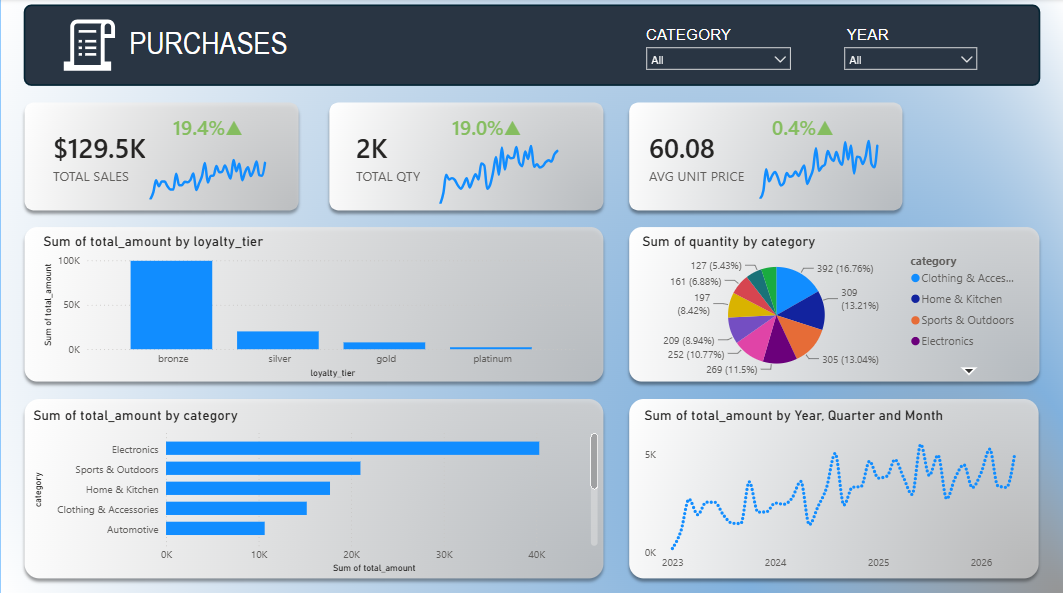

The page's visual inventory and layout, read from the dashboard file:
{"tool":"powerbi","page":{"name":"PURCHASES","canvas":[1280,720],"ordinal":0},"visuals":[{"type":"barChart","fields":{"Y":["Sum(purchases.total_amount)"],"Category":["products.category"]},"box":[34.4,491.4,689.5,205.1],"z":0},{"type":"lineChart","fields":{"Category":["purchases.order_date.Variation.Date Hierarchy.Year","purchases.order_date.Variation.Date Hierarchy.Quarter","purchases.order_date.Variation.Date Hierarchy.Month"],"Y":["Sum(purchases.total_amount)"]},"box":[770.8,491.4,469.3,205.1],"z":1000},{"type":"pieChart","fields":{"Category":["products.category"],"Y":["Sum(purchases.quantity)"]},"box":[768,282.2,472.1,178.9],"z":2000},{"type":"slicer","fields":{"Values":["purchases.order_date.Variation.Date Hierarchy.Year"]},"box":[1006.1,48.2,180.3,49.5],"z":3000},{"type":"columnChart","fields":{"Category":["users.loyalty_tier"],"Y":["Sum(purchases.total_amount)"]},"box":[46.8,282.2,653.8,178.9],"z":4000},{"type":"cardVisual","fields":{"Data":["DAX Measures.TOTAL SALES"]},"box":[34.4,134.9,217.5,110.1],"z":5000},{"type":"cardVisual","fields":{"Data":["DAX Measures.% YOY SLAES"]},"box":[178.9,112.9,170.7,77.1],"z":6000},{"type":"lineChart","fields":{"Category":["purchases.order_date.Variation.Date Hierarchy.Year","purchases.order_date.Variation.Date Hierarchy.Quarter","purchases.order_date.Variation.Date Hierarchy.Month"],"Y":["Sum(purchases.total_amount)"]},"box":[166.5,178.9,167.9,67.4],"z":7000},{"type":"cardVisual","fields":{"Data":["DAX Measures.TOTAL QTY"]},"box":[399.1,128,173.4,123.9],"z":8000},{"type":"lineChart","fields":{"Category":["purchases.order_date.Variation.Date Hierarchy.Year","purchases.order_date.Variation.Date Hierarchy.Quarter","purchases.order_date.Variation.Date Hierarchy.Month"],"Y":["Sum(purchases.quantity)"]},"box":[514.8,162.4,170.7,89.5],"z":9000},{"type":"lineChart","fields":{"Category":["purchases.order_date.Variation.Date Hierarchy.Year","purchases.order_date.Variation.Date Hierarchy.Quarter","purchases.order_date.Variation.Date Hierarchy.Month"],"Y":["Sum(purchases.unit_price)"]},"box":[900.1,156.9,170.7,89.5],"z":12000},{"type":"slicer","fields":{"Values":["products.category"]},"box":[768,48.2,194.1,45.4],"z":13000},{"type":"cardVisual","fields":{"Data":["DAX Measures.% YOY QTY"]},"box":[514.8,112.9,170.7,77.1],"z":14000},{"type":"cardVisual","fields":{"Data":["DAX Measures.AVG UNIT PRICE"]},"box":[752.9,128,173.4,123.9],"z":14001},{"type":"cardVisual","fields":{"Data":["DAX Measures.% YOY UNIT PRICE"]},"box":[900.1,112.9,170.7,77.1],"z":14002}]}

Visuals, with their boxes in screenshot pixels (x1, y1, x2, y2), scaled from the page's 1280x720 canvas onto the 1063x593 screenshot:
barChart - Sum(purchases.total_amount) x products.category: 29,405,601,574
lineChart - purchases.order_date.Variation.Date Hierarchy.Year x purchases.order_date.Variation.Date Hierarchy.Quarter: 640,405,1030,574
pieChart - products.category x Sum(purchases.quantity): 638,232,1030,380
slicer - purchases.order_date.Variation.Date Hierarchy.Year: 836,40,985,80
columnChart - users.loyalty_tier x Sum(purchases.total_amount): 39,232,582,380
cardVisual - DAX Measures.TOTAL SALES: 29,111,209,202
cardVisual - DAX Measures.% YOY SLAES: 149,93,290,156
lineChart - purchases.order_date.Variation.Date Hierarchy.Year x purchases.order_date.Variation.Date Hierarchy.Quarter: 138,147,278,203
cardVisual - DAX Measures.TOTAL QTY: 331,105,475,207
lineChart - purchases.order_date.Variation.Date Hierarchy.Year x purchases.order_date.Variation.Date Hierarchy.Quarter: 428,134,569,207
lineChart - purchases.order_date.Variation.Date Hierarchy.Year x purchases.order_date.Variation.Date Hierarchy.Quarter: 748,129,889,203
slicer - products.category: 638,40,799,77
cardVisual - DAX Measures.% YOY QTY: 428,93,569,156
cardVisual - DAX Measures.AVG UNIT PRICE: 625,105,769,207
cardVisual - DAX Measures.% YOY UNIT PRICE: 748,93,889,156
